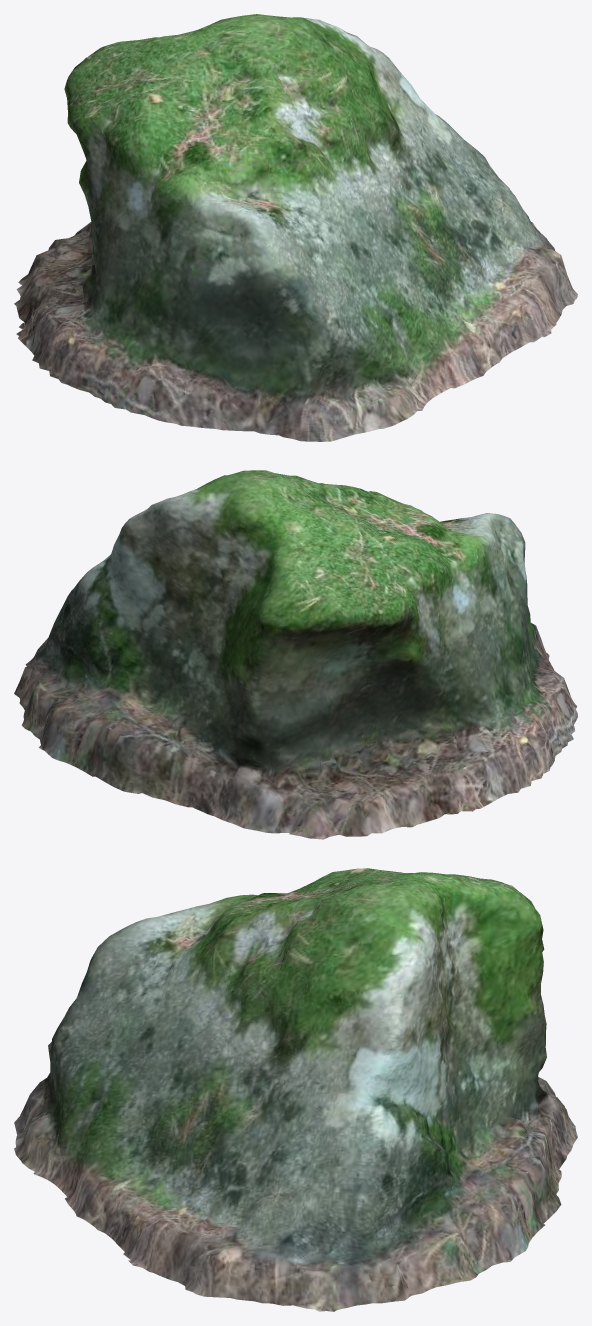
Rendered from Rock_Mossy.glb.
3 renders of one model, top to bottom at view 1: azimuth 30°, elevation 25°; view 2: azimuth 150°, elevation 25°; view 3: azimuth 270°, elevation 25°, orthographic. The views are drawn at different scales.
Parts seen in each view (by area): view 1: Rock_Mossy; view 2: Rock_Mossy; view 3: Rock_Mossy.
Boxes of the visible parts, x1=… form: Rock_Mossy: x1=14, y1=14, x2=577, y2=441; Rock_Mossy: x1=14, y1=470, x2=577, y2=839; Rock_Mossy: x1=14, y1=868, x2=577, y2=1311.
Bounding box in the file's own units: 3 × 1.5 × 2.7.
Materials: 1 (1 with a texture image).
